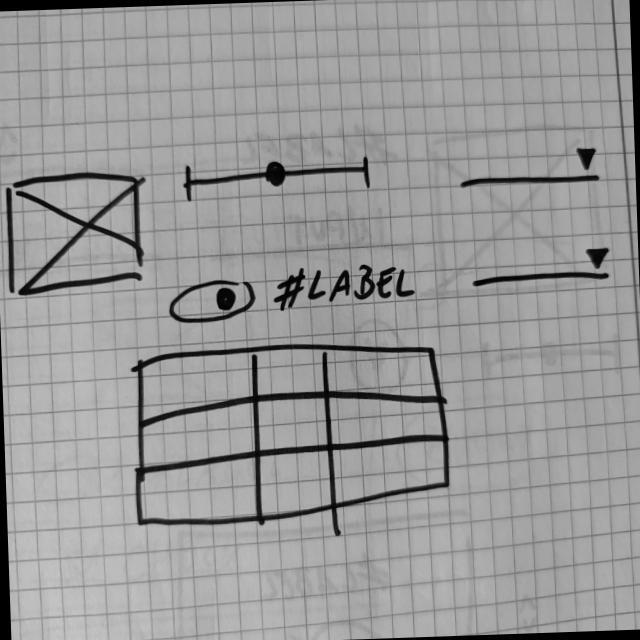image: (2, 165, 146, 298)
label: (270, 256, 421, 318)
select: (468, 238, 616, 294), (456, 141, 604, 194)
slider: (182, 154, 374, 207)
table: (130, 335, 453, 531)
toggle: (168, 275, 258, 328)
